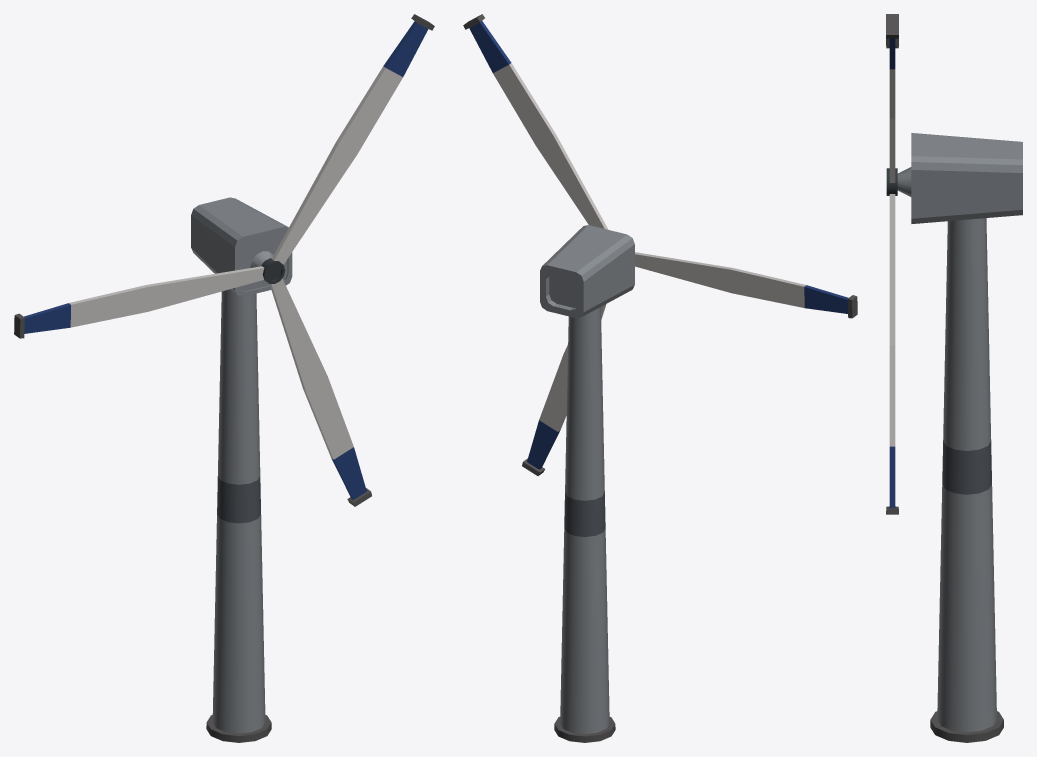
File: WindMill_1.fbx
The picture shows the model from 3 angles, left to right: view 1: azimuth 30°, elevation 25°; view 2: azimuth 150°, elevation 25°; view 3: azimuth 270°, elevation 25°; orthographic projection. The views are drawn at different scales.
Parts seen in each view (by area): view 1: WindMill_1; view 2: WindMill_1; view 3: WindMill_1.
Part boxes in pixels (x1,y1,x2,y2): WindMill_1: (14,14,434,742); WindMill_1: (463,14,857,742); WindMill_1: (886,14,1022,742).
Size of the model in its own units: 243 by 393 by 61.37.
